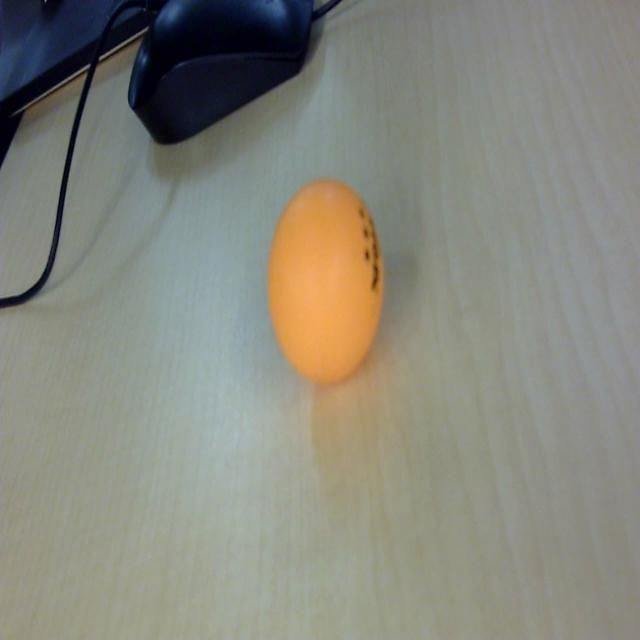ball: (266, 179, 387, 390)
